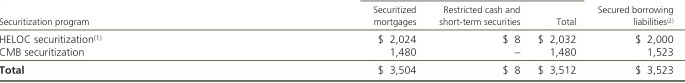column: (1, 1, 103, 83), (438, 1, 522, 83), (597, 1, 675, 83), (372, 1, 417, 83), (549, 1, 578, 83), (537, 1, 544, 83)
row: (1, 16, 685, 27), (1, 4, 685, 14), (1, 34, 685, 44), (1, 64, 685, 74), (1, 46, 678, 56)
